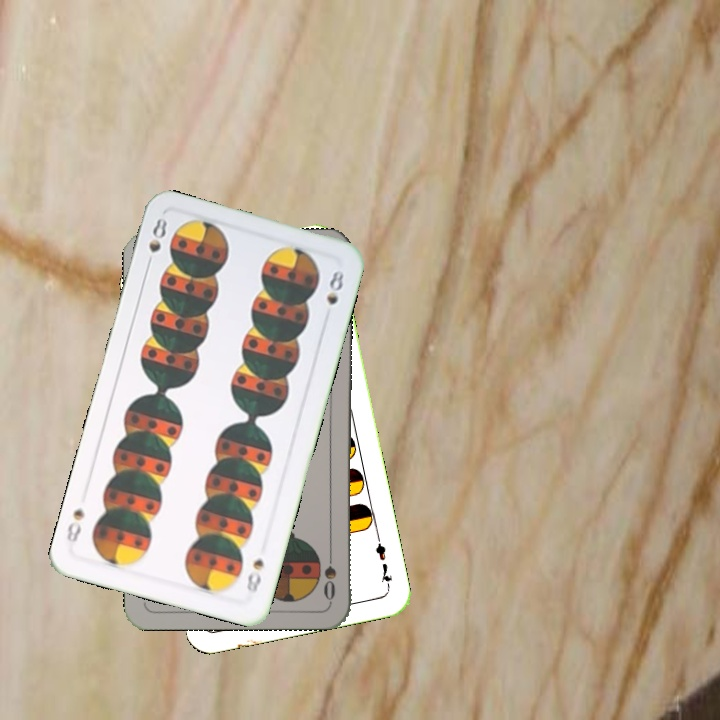E7: (371, 532, 395, 591)
S8: (142, 214, 170, 271), (242, 554, 266, 596)
SO: (320, 544, 339, 603)
